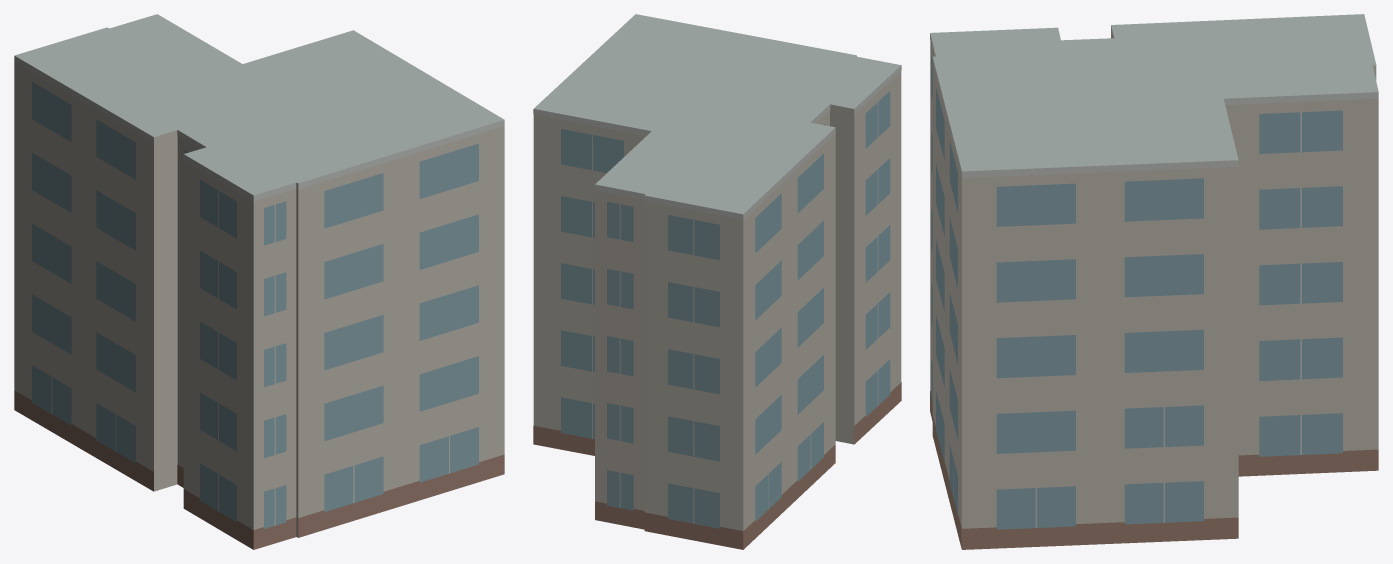
Rendered from survey-upis-32996100.glb.
The picture shows the model from 3 angles, left to right: view 1: azimuth 30°, elevation 25°; view 2: azimuth 150°, elevation 25°; view 3: azimuth 270°, elevation 25°; orthographic projection. The views are drawn at different scales.
Parts seen in each view (by area): view 1: survey-upis-32996100.tmp; view 2: survey-upis-32996100.tmp; view 3: survey-upis-32996100.tmp.
Part boxes in pixels (x1,y1,x2,y2): survey-upis-32996100.tmp: (14,14,504,549); survey-upis-32996100.tmp: (533,14,901,549); survey-upis-32996100.tmp: (930,14,1378,549).
Size of the model in its own units: 12.72 by 14.25 by 15.32.
